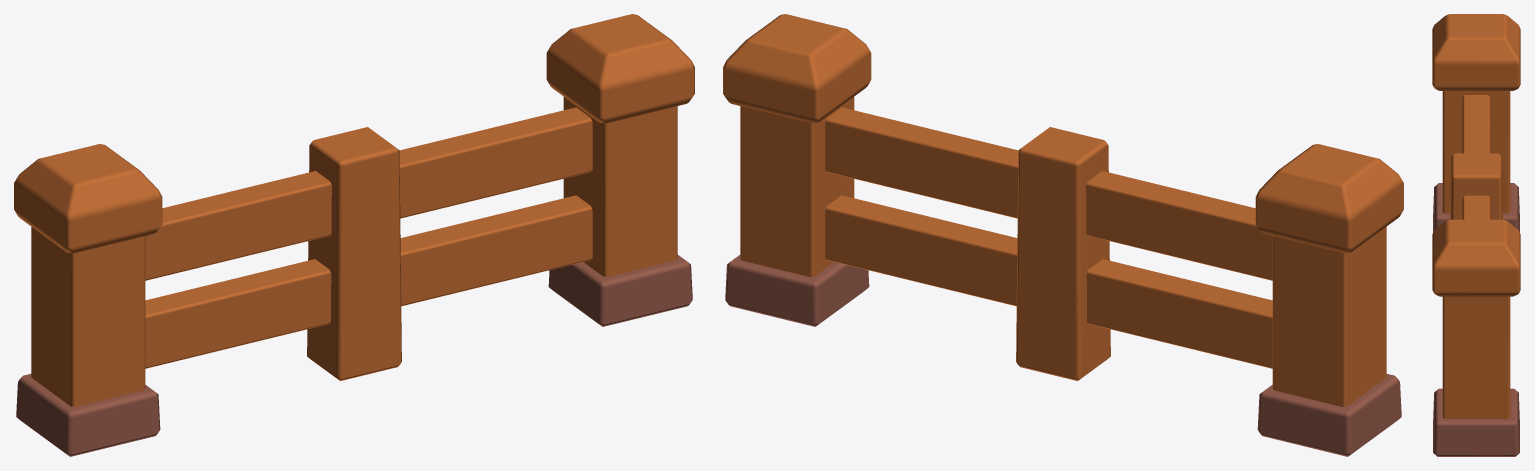
The model's file is Fence.glb.
3 renders of one model, left to right at view 1: azimuth 30°, elevation 25°; view 2: azimuth 150°, elevation 25°; view 3: azimuth 270°, elevation 25°, orthographic. The views are drawn at different scales.
Visible parts, largest first — view 1: M_Fence_ToyLeg, M_Fence_Bark; view 2: M_Fence_ToyLeg, M_Fence_Bark; view 3: M_Fence_ToyLeg, M_Fence_Bark.
Boxes of the visible parts, bbox=[...] form: M_Fence_ToyLeg: bbox=[14, 14, 694, 406]; M_Fence_Bark: bbox=[16, 255, 692, 456]; M_Fence_ToyLeg: bbox=[723, 14, 1403, 406]; M_Fence_Bark: bbox=[725, 255, 1401, 456]; M_Fence_ToyLeg: bbox=[1432, 14, 1520, 418]; M_Fence_Bark: bbox=[1433, 183, 1519, 456].
Bounding box in the file's own units: 8.98 × 3.62 × 1.38.
